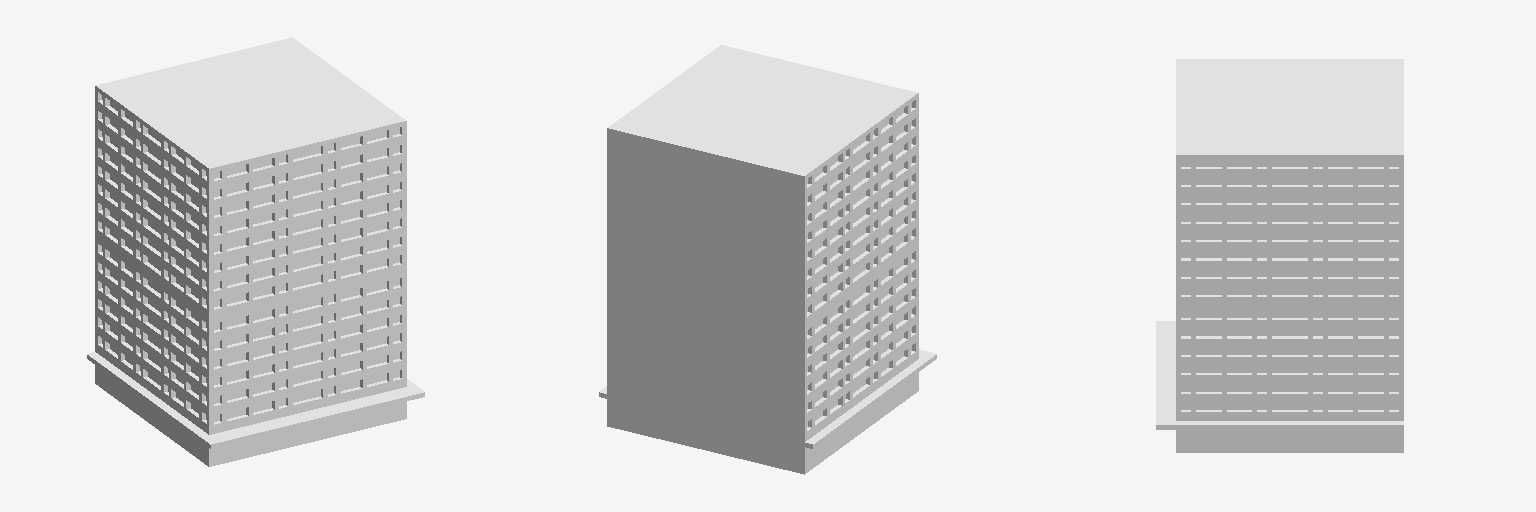
File: bldg-white-2.obj
The picture shows the model from 3 angles: view 1: azimuth 30°, elevation 25°; view 2: azimuth 150°, elevation 25°; view 3: azimuth 270°, elevation 25°; orthographic projection.
Size of the model in its own units: 49 by 65 by 49.